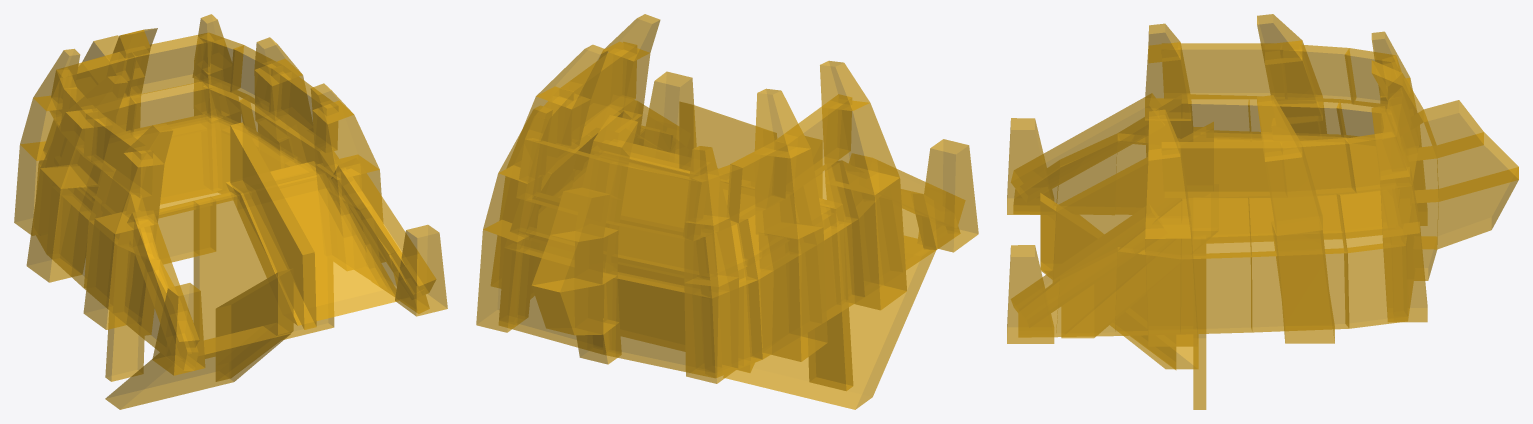
The model's file is SM_Veh_Ship_S_Back_04_Collision.fbx.
The picture shows the model from 3 angles, left to right: view 1: azimuth 30°, elevation 25°; view 2: azimuth 150°, elevation 25°; view 3: azimuth 270°, elevation 25°; orthographic projection. The views are drawn at different scales.
Parts seen in each view (by area): view 1: SM_Veh_Ship_S_Back_04_Collision; view 2: SM_Veh_Ship_S_Back_04_Collision; view 3: SM_Veh_Ship_S_Back_04_Collision.
Boxes of the visible parts, bbox=[...] form: SM_Veh_Ship_S_Back_04_Collision: bbox=[14, 14, 447, 409]; SM_Veh_Ship_S_Back_04_Collision: bbox=[476, 14, 978, 409]; SM_Veh_Ship_S_Back_04_Collision: bbox=[1007, 14, 1518, 409].
Size of the model in its own units: 579 by 570 by 841.
